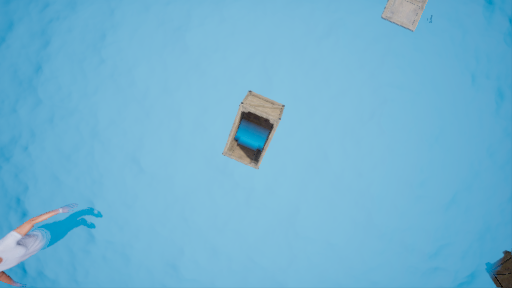person: (2, 203, 113, 277)
